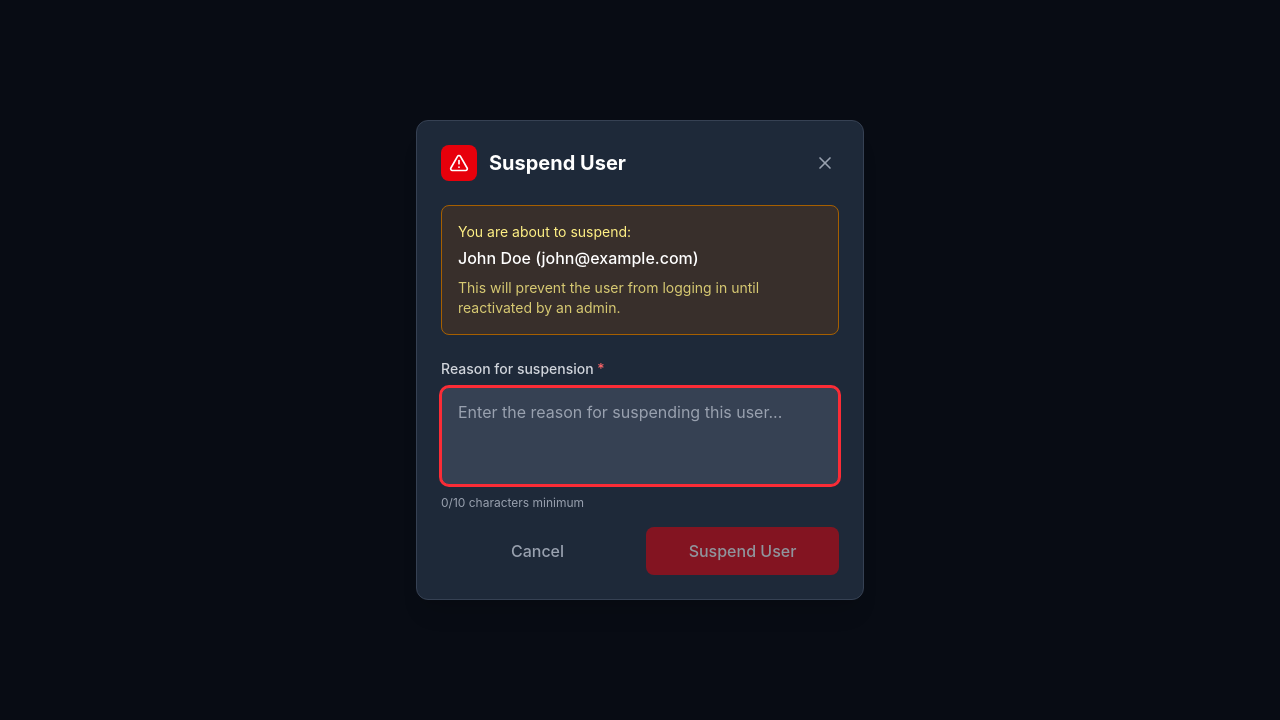
Scenario: SuspendUserModal › form validation › should update character count as user types
Type "Test" into the text box with placeholder "Enter the reason for suspending this user..." at (640, 436), box [441,387,839,485]
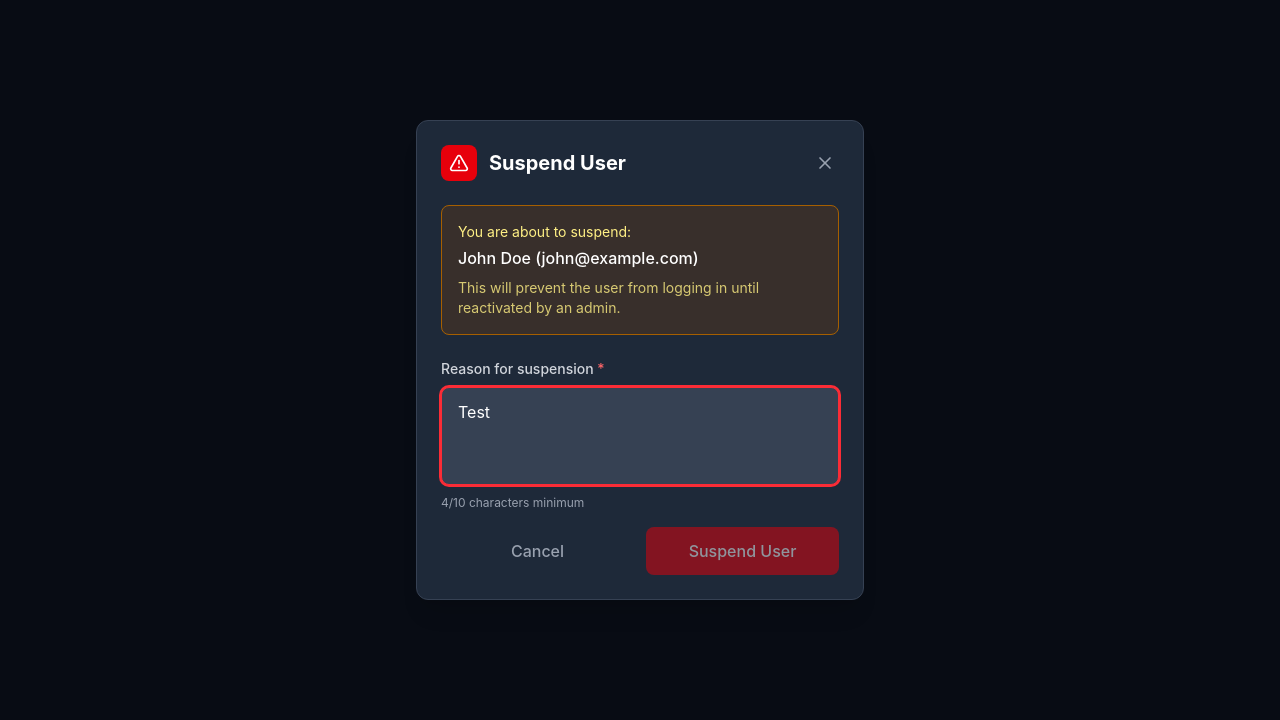
Check: the text "4/10 characters minimum" is shown, box [441,495,584,510]
